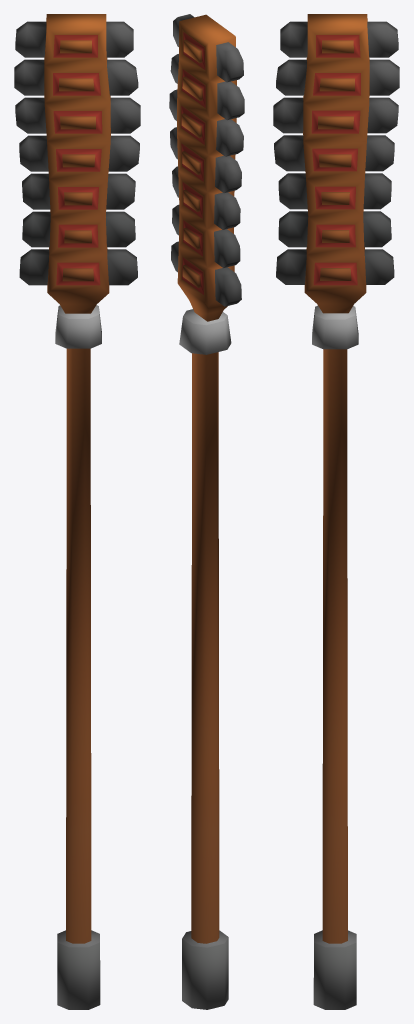
Rendered from DemoniosHuantinaArma.fbx.
3 views of the same model, side by side, from view 1: azimuth 90°, elevation 25°; view 2: azimuth 210°, elevation 25°; view 3: azimuth 270°, elevation 25° (orthographic).
Parts seen in each view (by area): view 1: HuantinaArma; view 2: HuantinaArma; view 3: HuantinaArma.
Part boxes in pixels (x1,y1,x2,y2): HuantinaArma: [14, 14, 140, 1009]; HuantinaArma: [169, 14, 244, 1009]; HuantinaArma: [273, 14, 399, 1009].
Bounding box in the file's own units: 17.9 × 413 × 48.3.
Materials: 1 (1 with a texture image).
